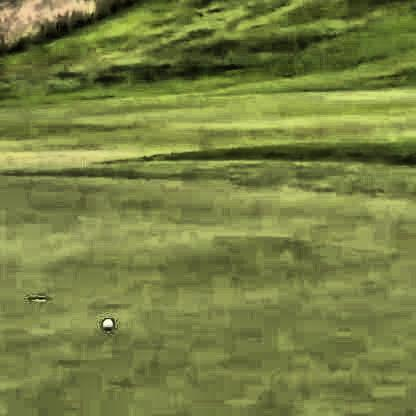golfball: (100, 315, 112, 329)
